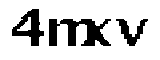4: (9, 4, 45, 52)
m: (46, 14, 94, 51)
v: (115, 14, 147, 49)
x: (84, 18, 113, 51)
